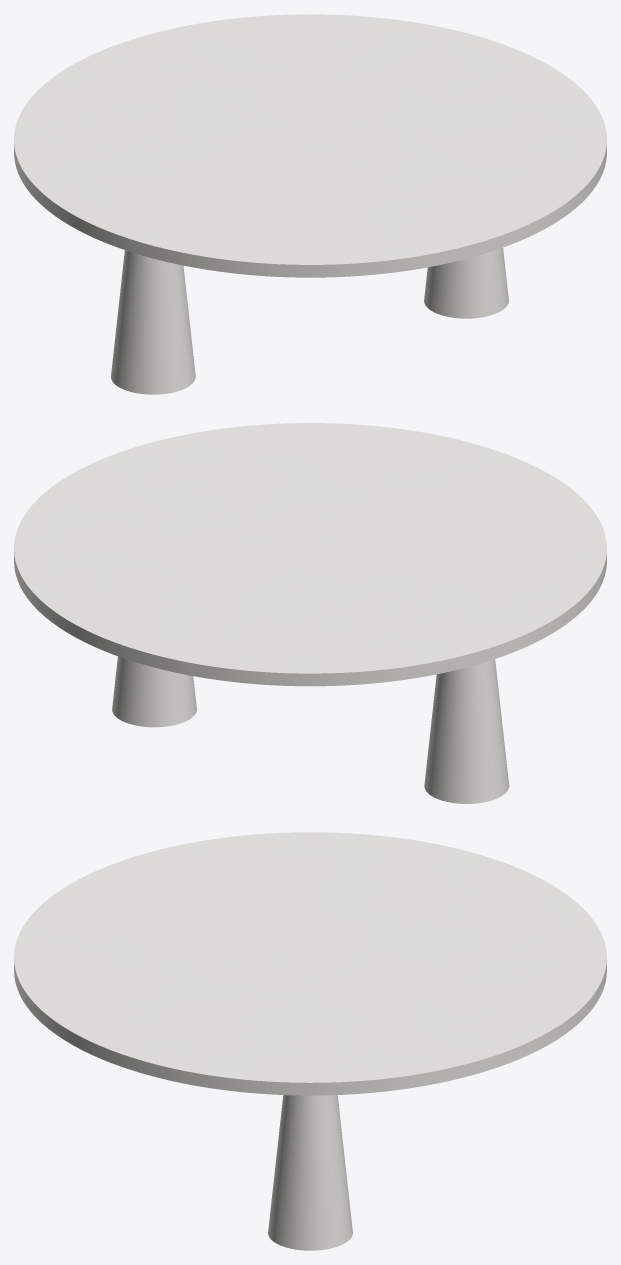
File: purewhite_round_standard_pebble.glb
3 views of the same model, one above another, from view 1: azimuth 30°, elevation 25°; view 2: azimuth 150°, elevation 25°; view 3: azimuth 270°, elevation 25° (orthographic).
Parts seen in each view (by area): view 1: standard_round, pebble; view 2: standard_round, pebble; view 3: standard_round, pebble.
Boxes of the visible parts, left/top/right/bottom form: standard_round: left=14, top=14, right=606, bottom=277; pebble: left=111, top=248, right=508, bottom=394; standard_round: left=14, top=423, right=606, bottom=686; pebble: left=112, top=656, right=509, bottom=803; standard_round: left=14, top=832, right=606, bottom=1095; pebble: left=268, top=1095, right=352, bottom=1250.
Bounding box in the file's own units: 6.75 × 2.5 × 6.75.
Materials: 1 (1 with a texture image).
